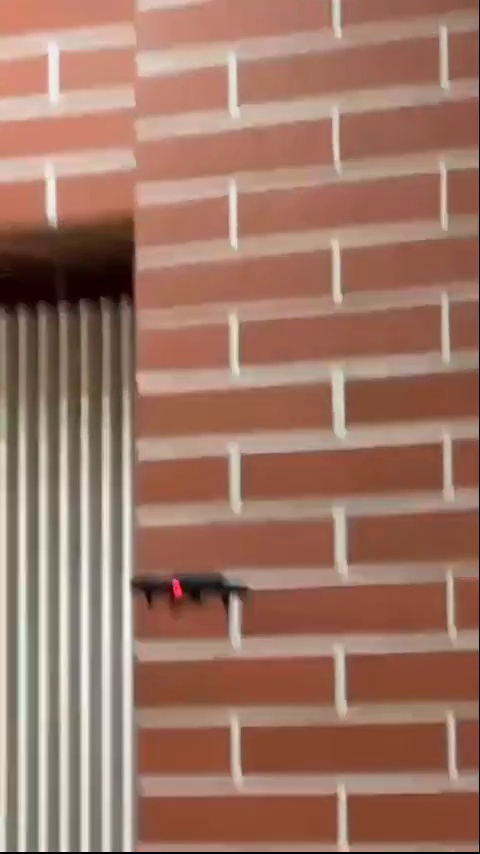drone: (132, 569, 261, 622)
